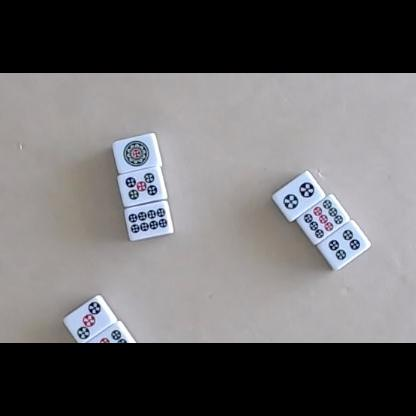1p: (123, 139, 150, 167)
2p: (283, 181, 316, 210)
3p: (75, 300, 102, 339)
4p: (328, 229, 362, 261)
5p: (124, 172, 158, 201)
6p: (90, 328, 127, 343)
8p: (128, 207, 168, 234)
9p: (303, 198, 344, 239)
